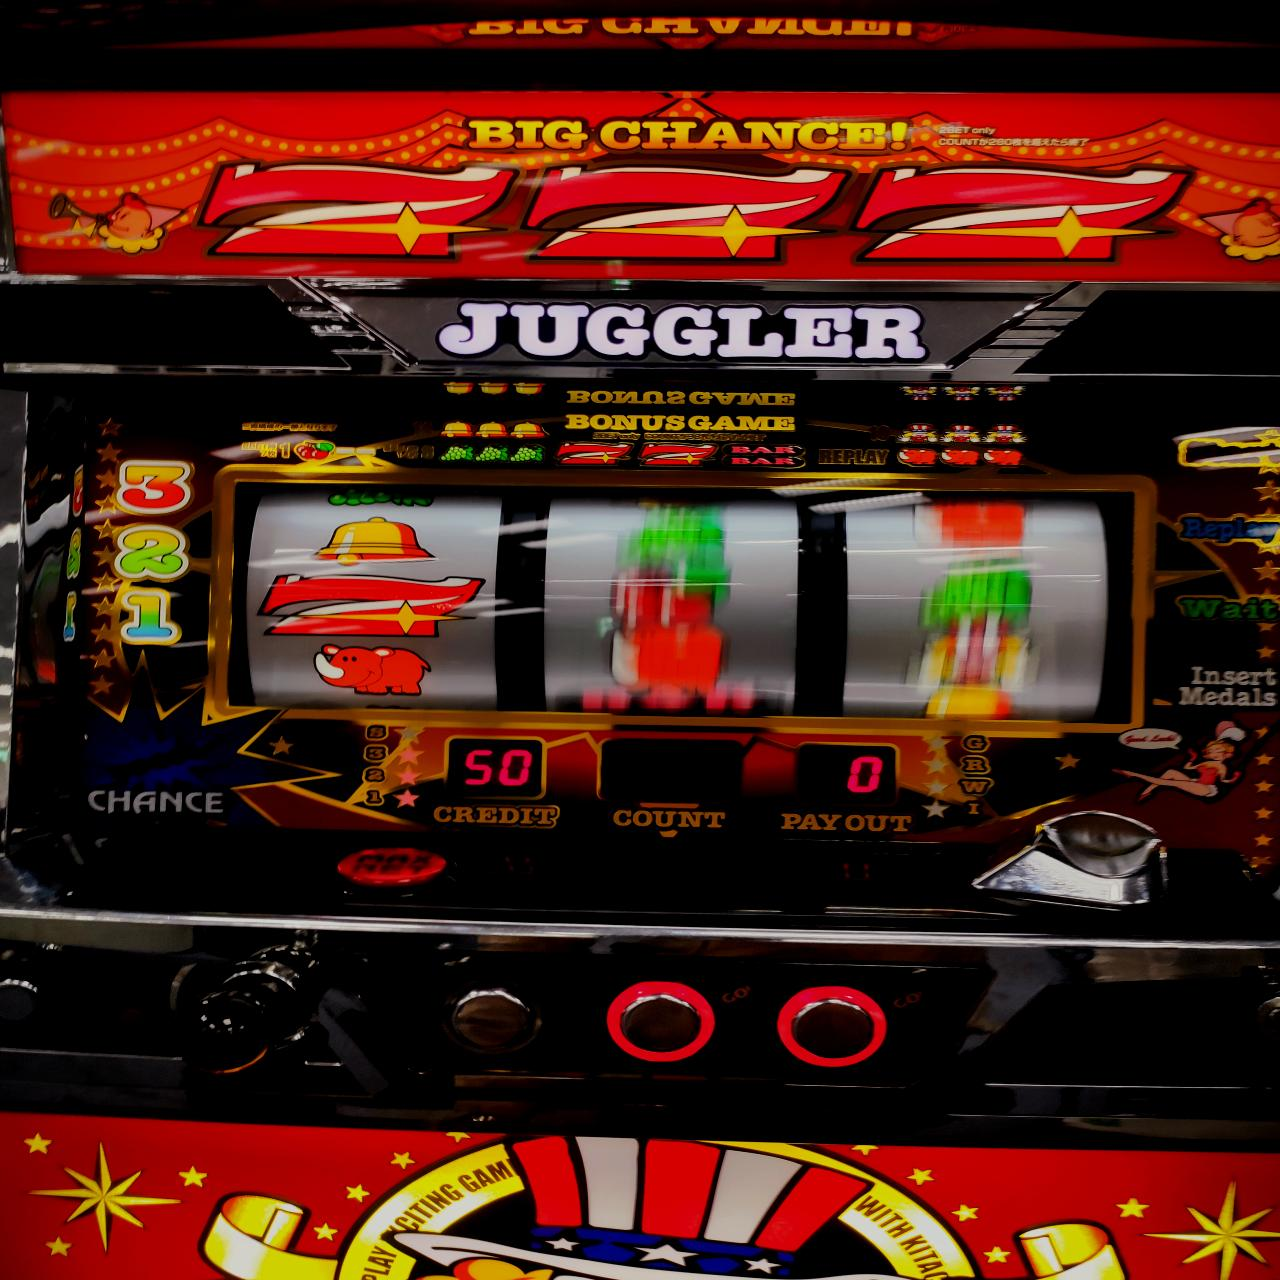7: (256, 572, 484, 639)
8: (311, 642, 429, 695)
bell: (314, 515, 433, 564)
rhino: (231, 482, 1160, 738)
